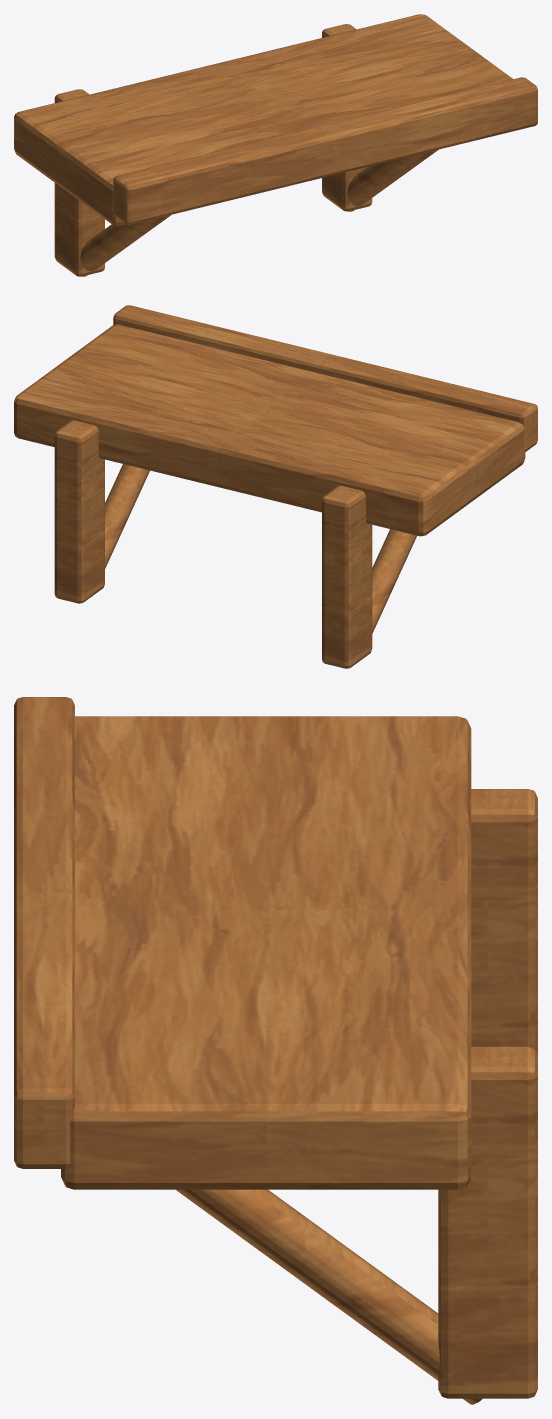
Rendered from WC_CAFE_Shelf_Short_A.glb.
The picture shows the model from 3 angles, top to bottom: view 1: azimuth 30°, elevation 25°; view 2: azimuth 150°, elevation 25°; view 3: azimuth 270°, elevation 25°; orthographic projection. The views are drawn at different scales.
Parts seen in each view (by area): view 1: WC_CAFE_Shelf_Short_A_RenderMesh; view 2: WC_CAFE_Shelf_Short_A_RenderMesh; view 3: WC_CAFE_Shelf_Short_A_RenderMesh.
Part boxes in pixels (x1=…): WC_CAFE_Shelf_Short_A_RenderMesh: x1=14, y1=14, x2=537, y2=276; WC_CAFE_Shelf_Short_A_RenderMesh: x1=14, y1=305, x2=537, y2=668; WC_CAFE_Shelf_Short_A_RenderMesh: x1=14, y1=697, x2=537, y2=1404.
Size of the model in its own units: 0.85 by 0.378 by 0.4725.
Materials: 3 (3 with a texture image).
